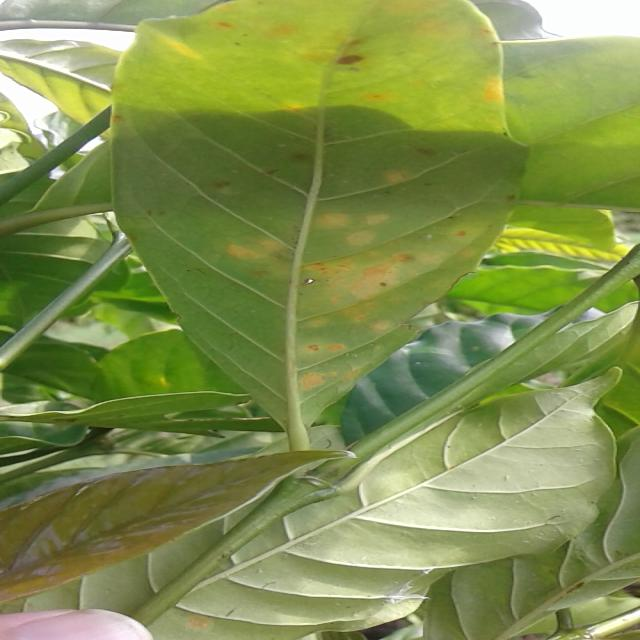Enfermedad-Roya: (111, 0, 529, 453)
